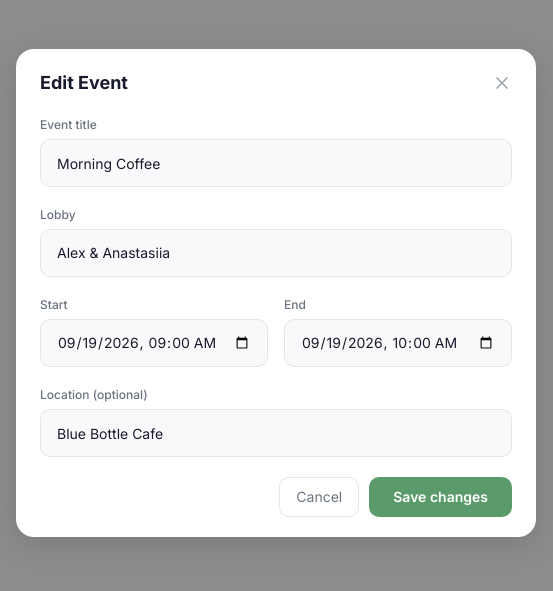
Test case: CreateEventModal — edit mode › surfaces an inline error on a 400 response in edit mode
What coordinates should you click on to do the following:
click the button "Save changes"
I would click on:
 (441, 497)
Its box is left=369, top=477, right=512, bottom=517.
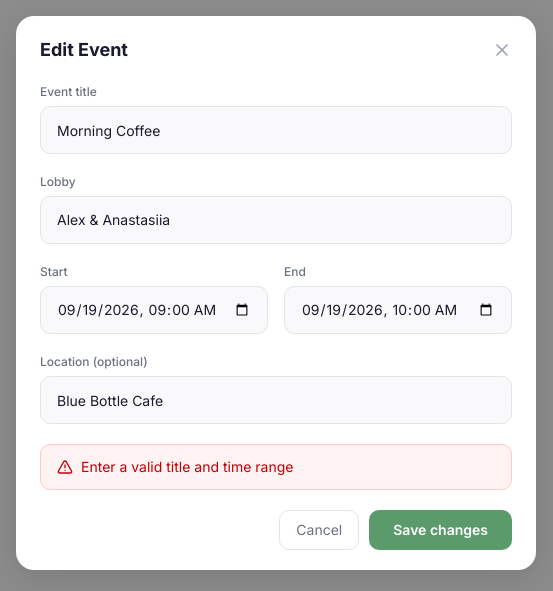
Result: the message reads "Enter a valid title and time range" at left=81, top=458, right=293, bottom=475
